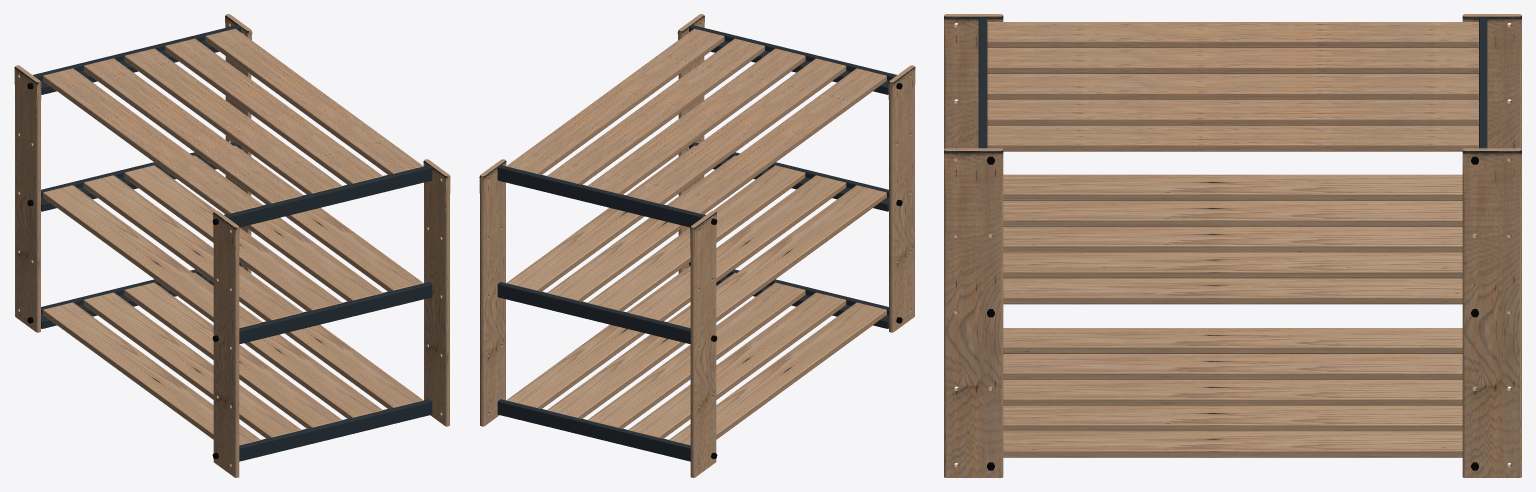
File: shelf.glb
3 renders of one model, left to right at view 1: azimuth 30°, elevation 25°; view 2: azimuth 150°, elevation 25°; view 3: azimuth 270°, elevation 25°, orthographic. The views are drawn at different scales.
Visible parts, largest first — view 1: shelf; view 2: shelf; view 3: shelf.
Part boxes in pixels (box(x1,y1,x2,y2)): shelf: box(14, 14, 450, 477); shelf: box(479, 14, 915, 477); shelf: box(944, 14, 1521, 477).
Size of the model in its own units: 0.5076 by 0.5464 by 0.8753.
Materials: 2 (1 with a texture image).
